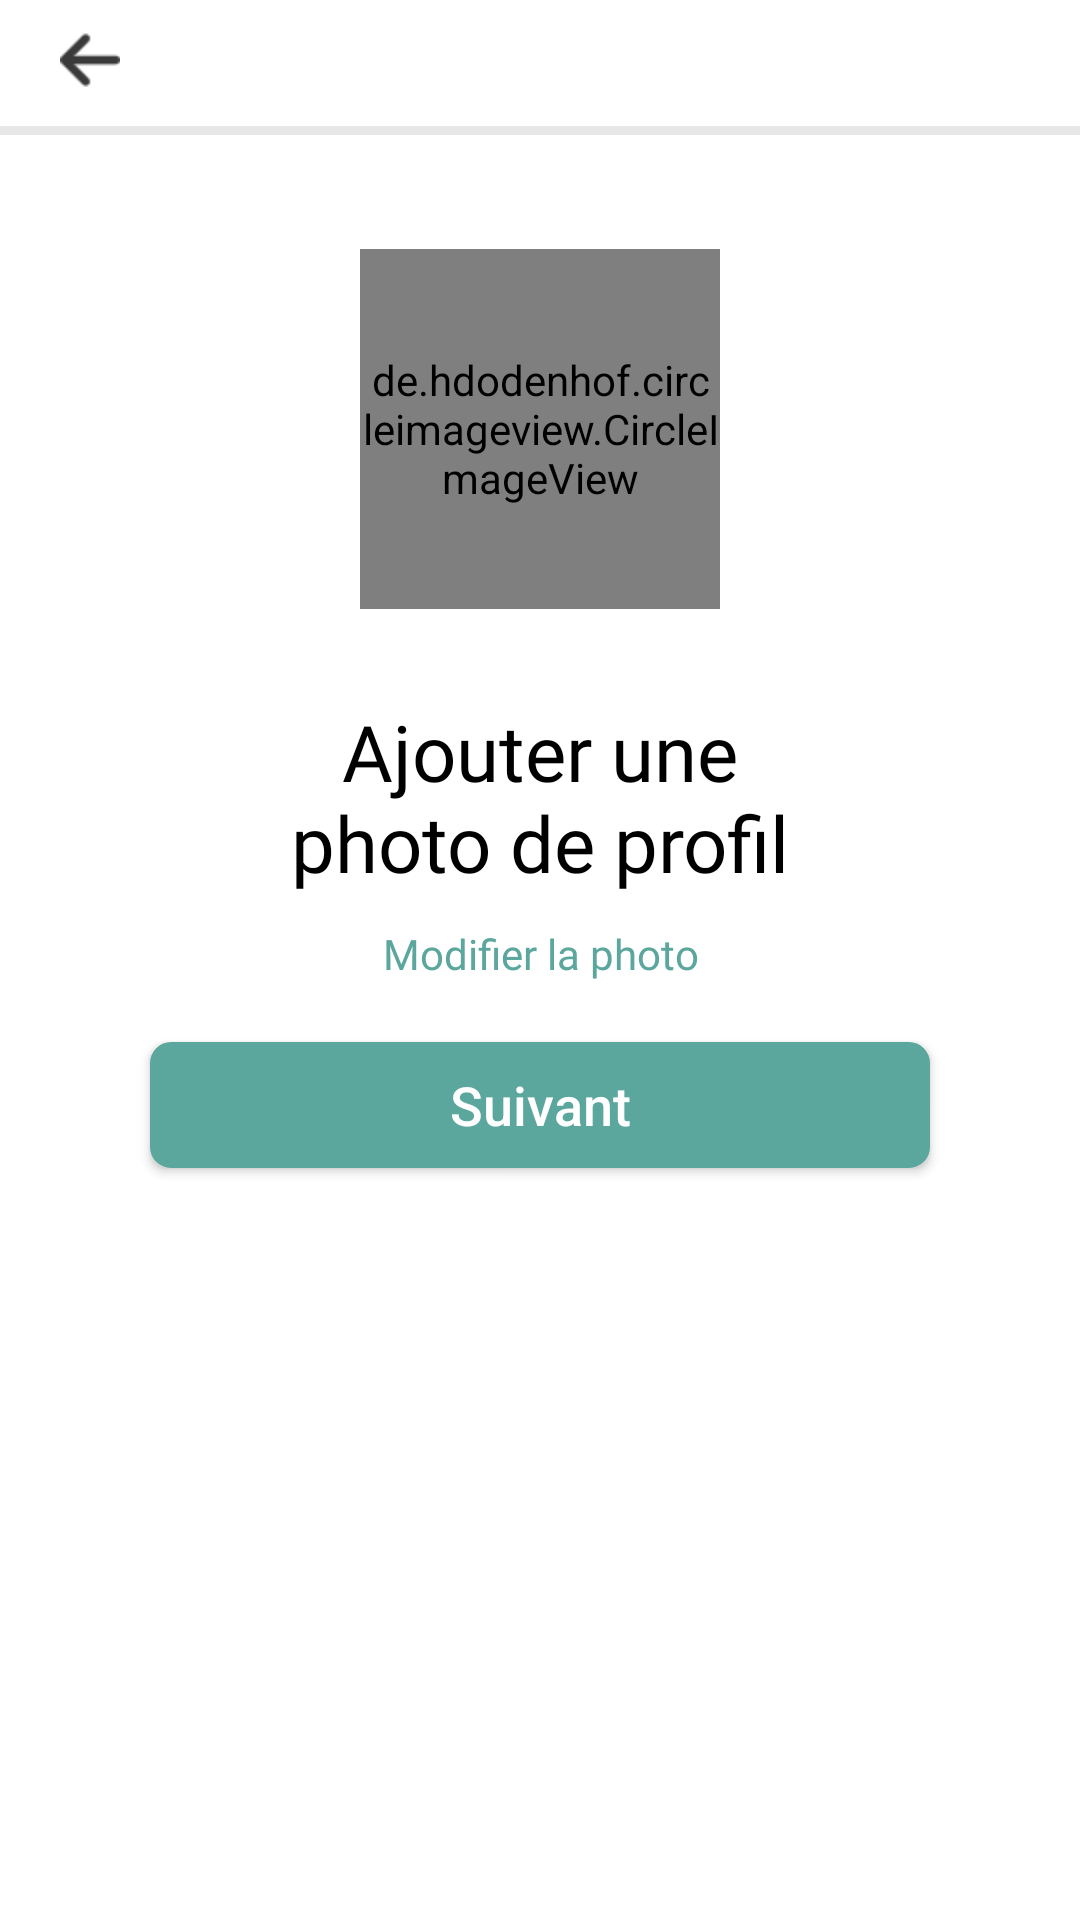

Where icons sit on this 1080px×1920px app screen, as (x1, y1, x2, y2):
arrow: (60, 33, 120, 87)
